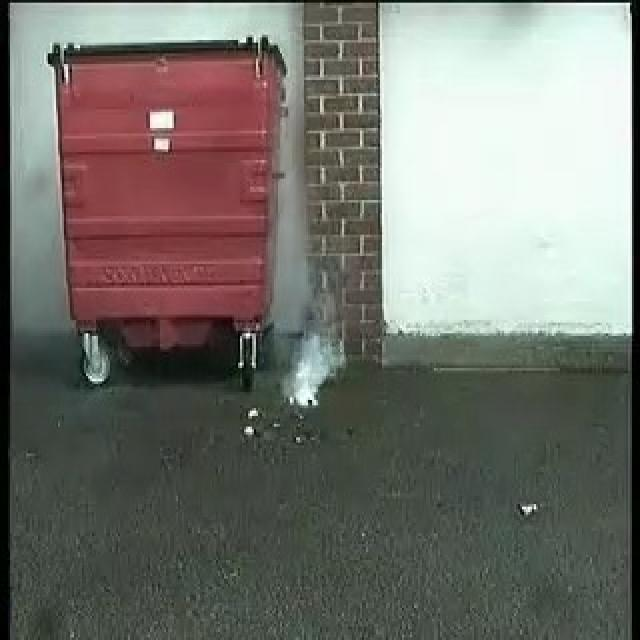smoke: (278, 296, 344, 406)
